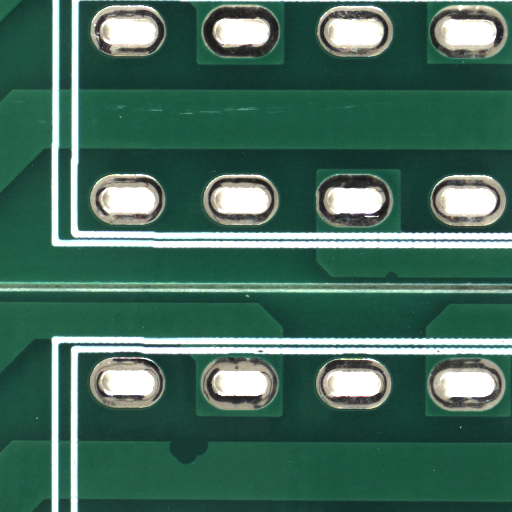Mouse_bite: (188, 451, 229, 479), (391, 275, 406, 284)
